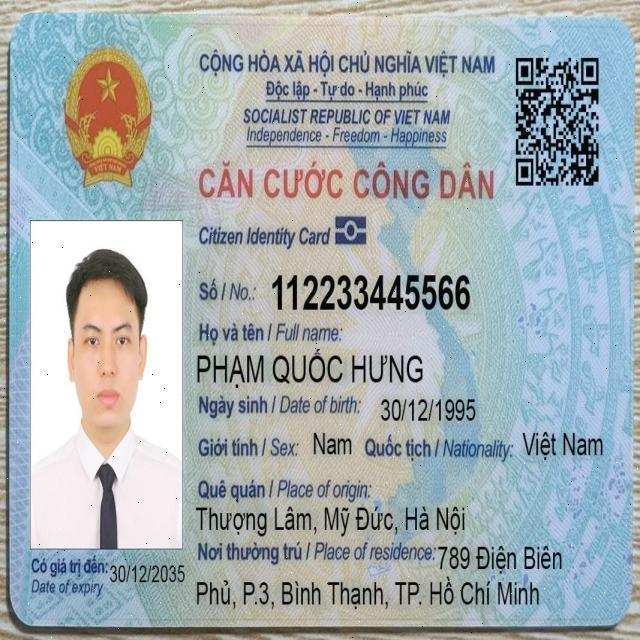current_place: (192, 573, 544, 616), (434, 540, 565, 577)
dob: (378, 390, 480, 428)
expire_date: (106, 559, 189, 589)
gender: (310, 427, 355, 461)
id: (269, 268, 474, 319)
name: (194, 347, 427, 392)
nationality: (520, 425, 606, 463)
origin_place: (194, 501, 467, 540)
